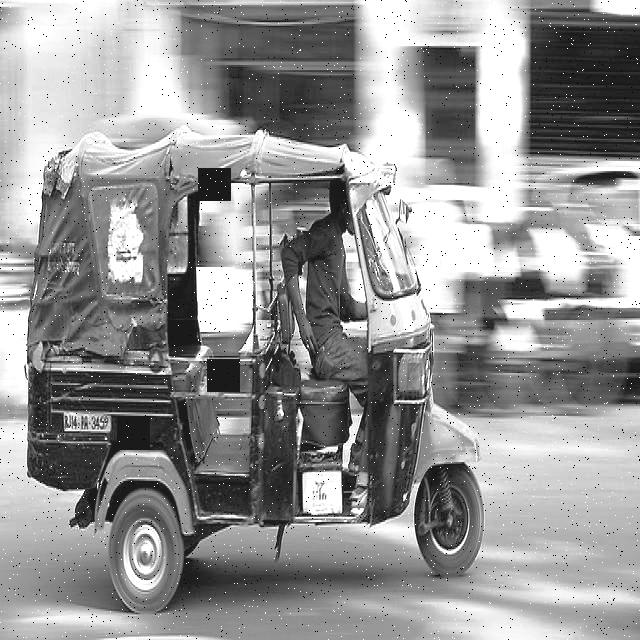Auto-Rickshaw: (23, 127, 485, 613)
